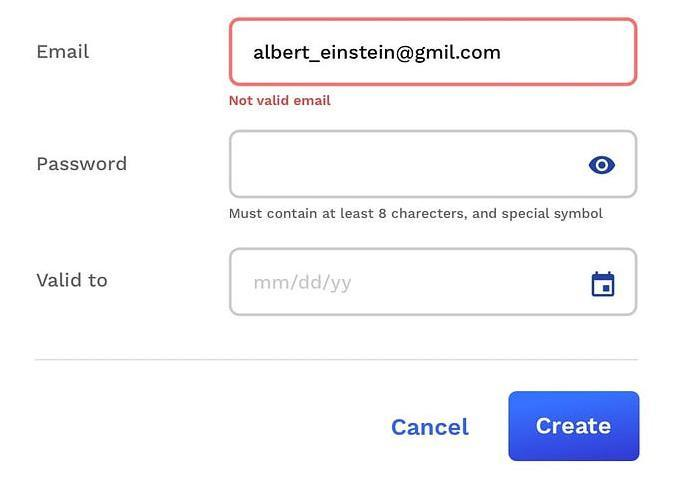button: (509, 392, 641, 463)
icon: (588, 268, 620, 301), (587, 154, 619, 177)
input: (230, 249, 638, 317), (232, 133, 636, 196), (231, 21, 635, 83)
label: (228, 208, 605, 221), (34, 155, 127, 171), (229, 95, 335, 108), (36, 272, 108, 291), (394, 417, 470, 435), (36, 44, 91, 60)
